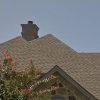Chimney: (13, 10, 41, 45)
